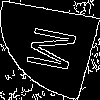M: (25, 24, 89, 75)
